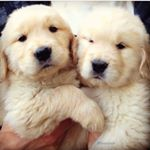puppy: (71, 2, 150, 148), (1, 3, 74, 138)
